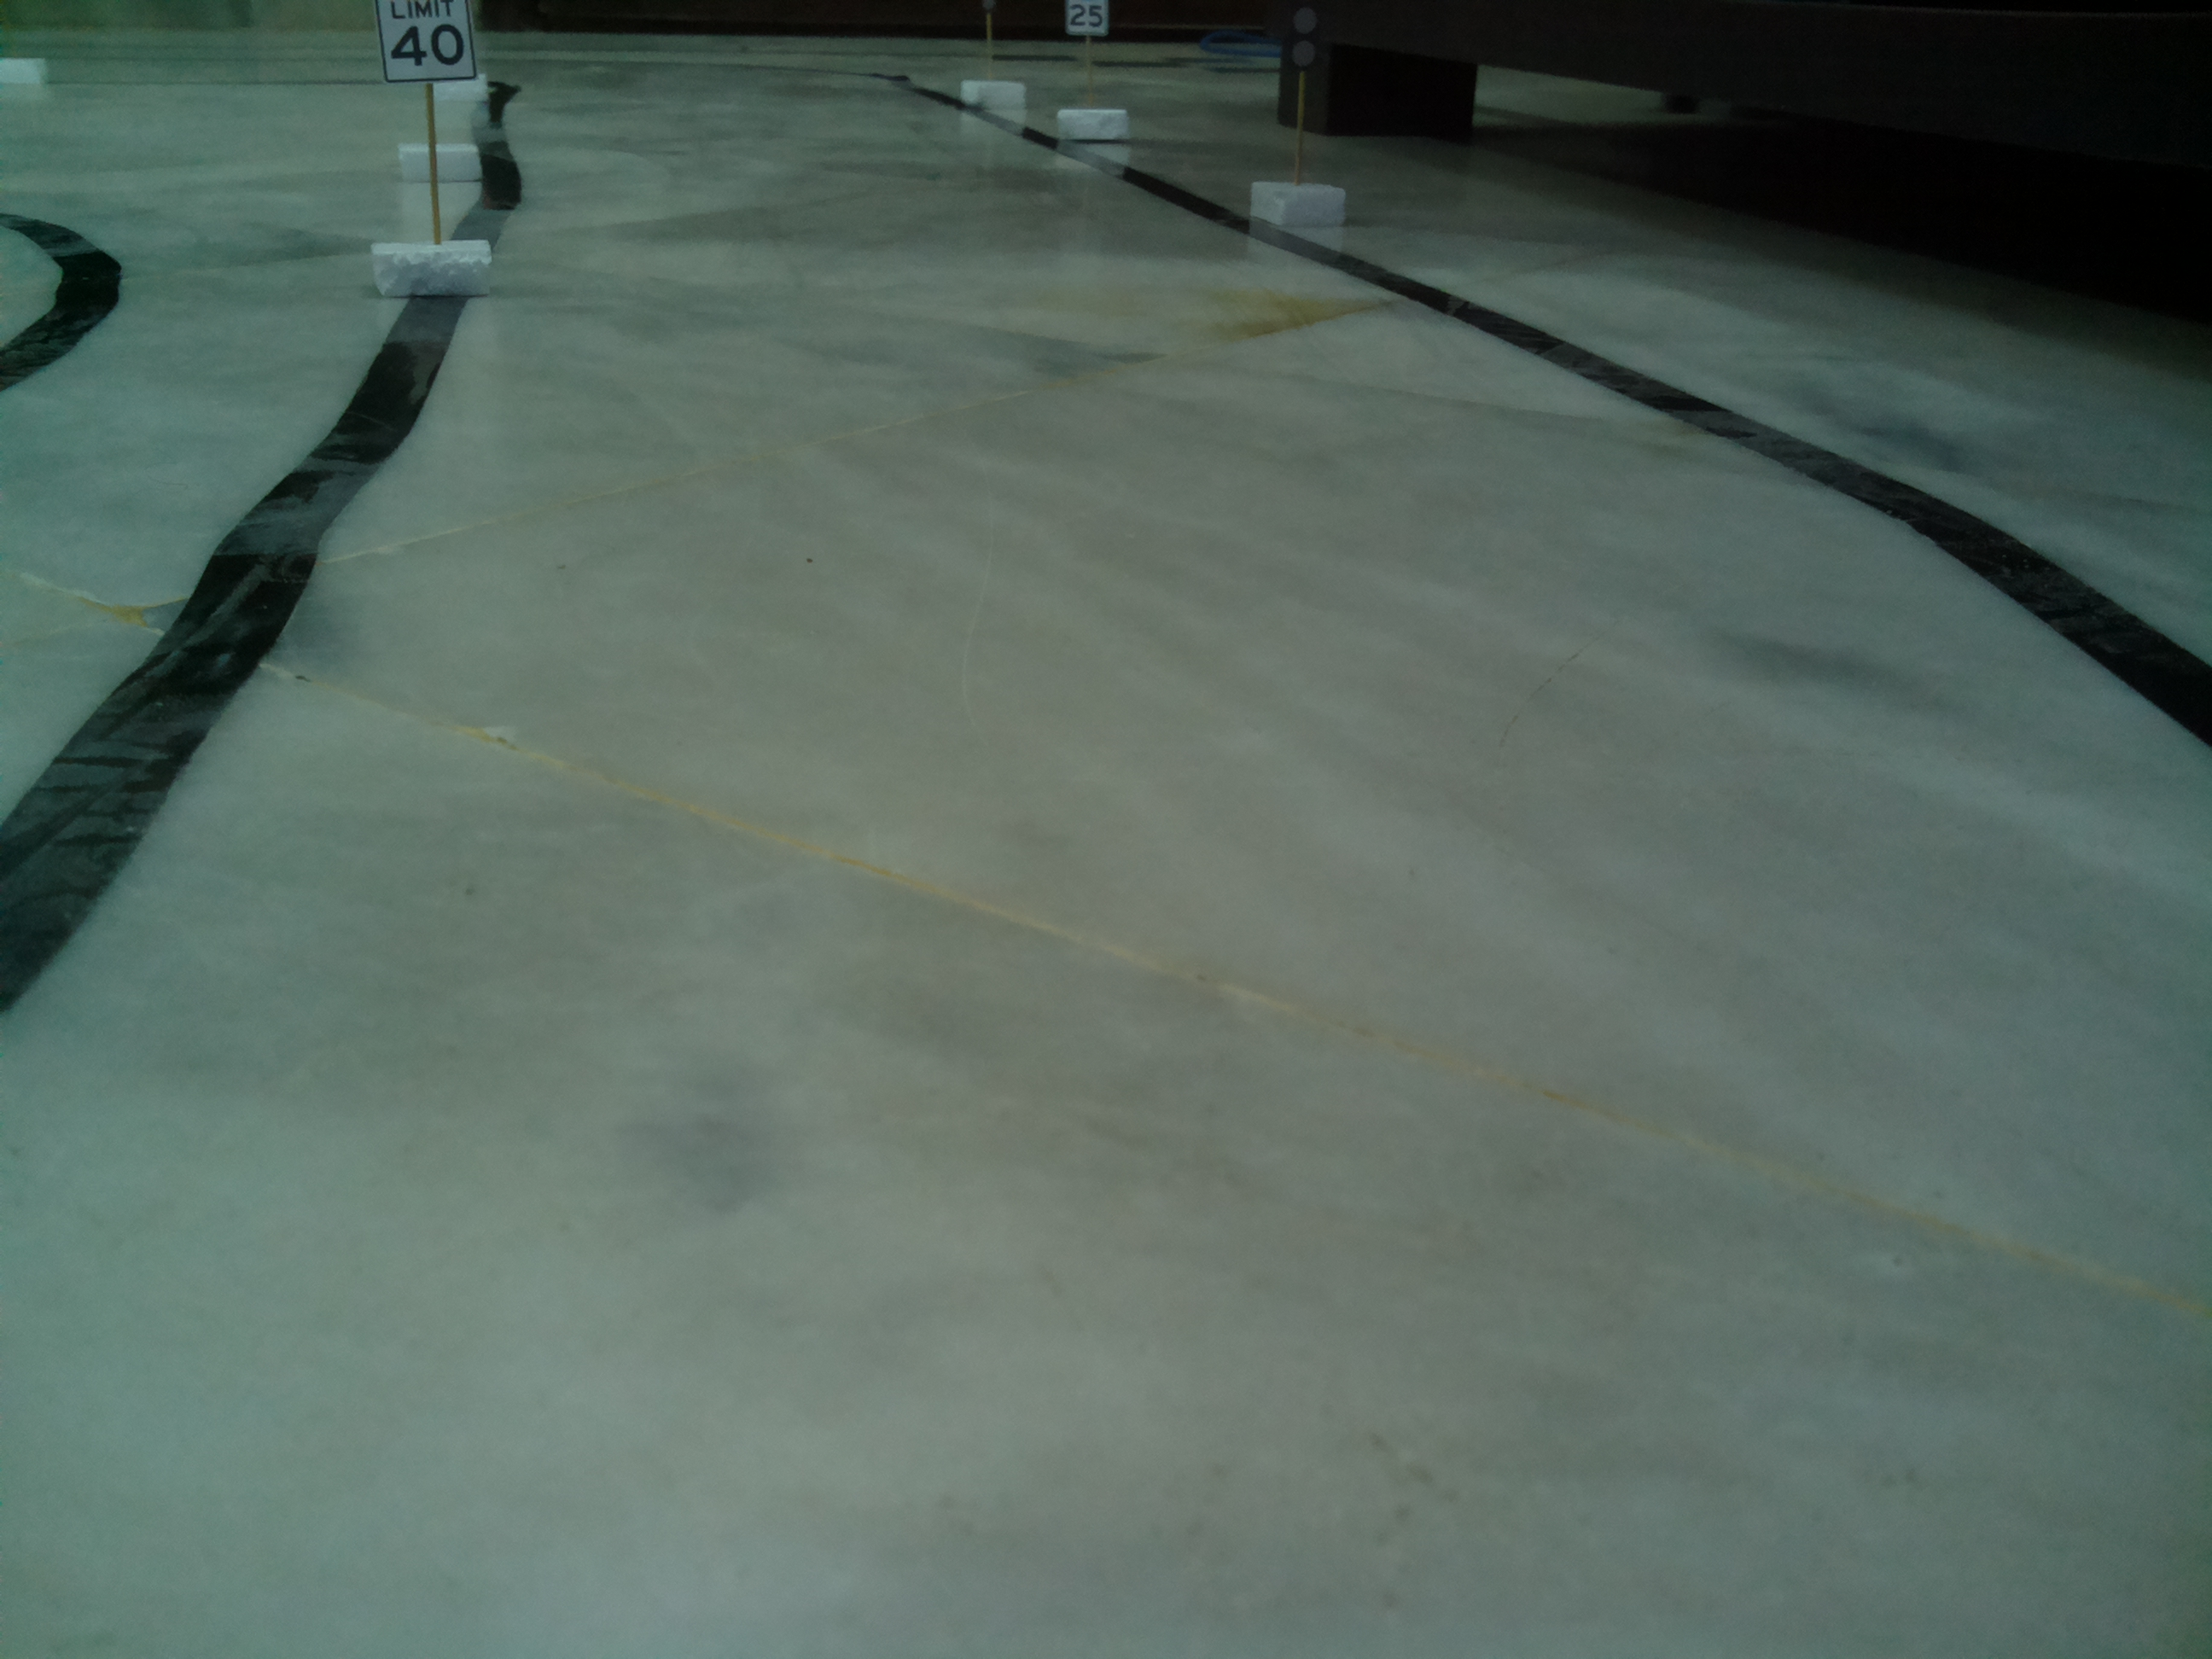Speed limit 40: (366, 0, 484, 89)
